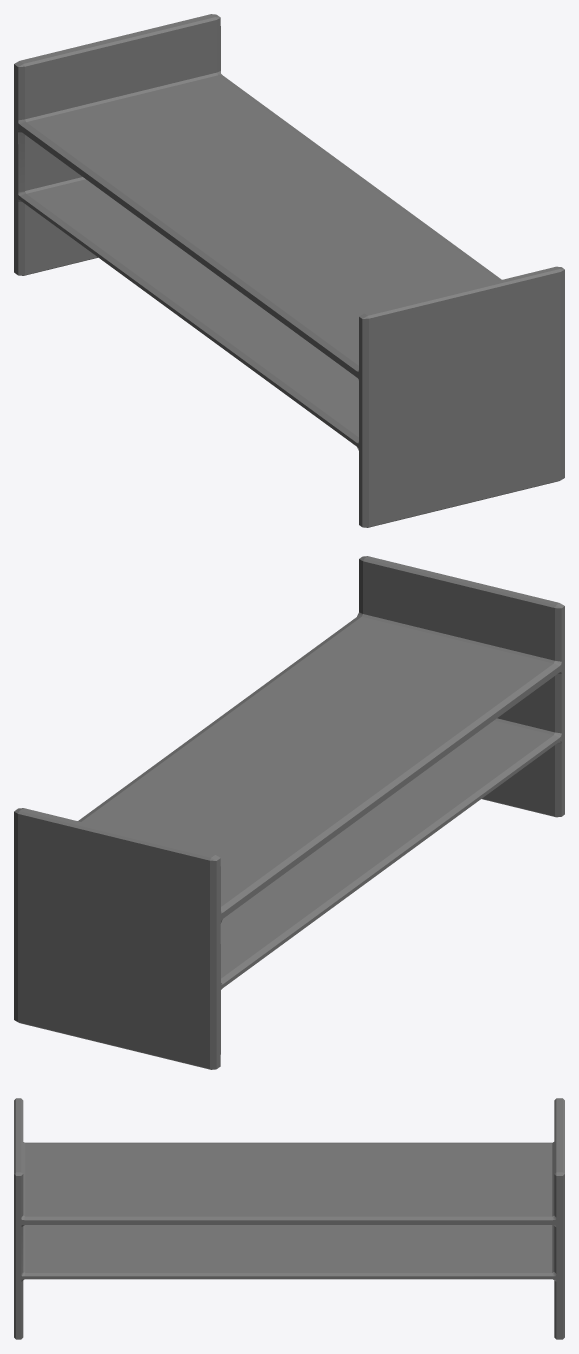
File: Obj_LabDuelShelf.fbx
3 views of the same model, one above another, from view 1: azimuth 30°, elevation 25°; view 2: azimuth 150°, elevation 25°; view 3: azimuth 270°, elevation 25° (orthographic). The views are drawn at different scales.
Visible parts, largest first — view 1: Obj_LabDuelShelf; view 2: Obj_LabDuelShelf; view 3: Obj_LabDuelShelf.
Part boxes in pixels (<box>): Obj_LabDuelShelf: <box>14,14,564,527</box>; Obj_LabDuelShelf: <box>14,556,564,1069</box>; Obj_LabDuelShelf: <box>14,1098,564,1339</box>.
Bounding box in the file's own units: 1 × 1 × 3.
